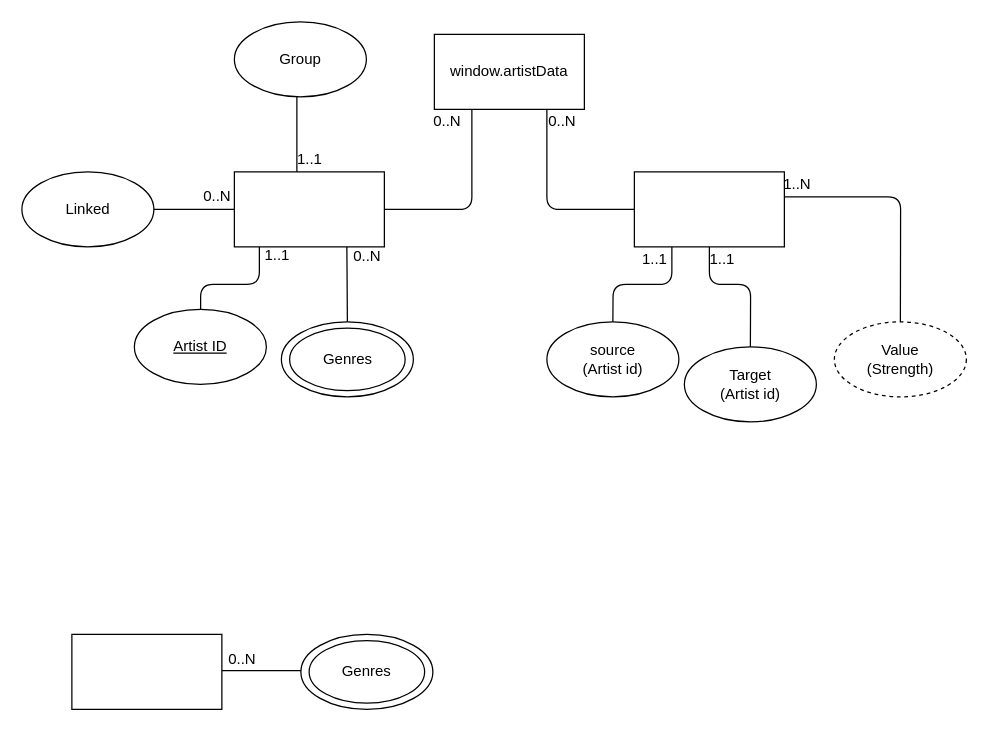
The diagram is 989 pixels wide and 731 high, and some of its shapes have lost their labels. Here are the shapes that lost their labels. From the top down, the centre of each, then its label:
[308,209]: nodes (Artists)
[708,209]: links
[146,671]: window.genres
